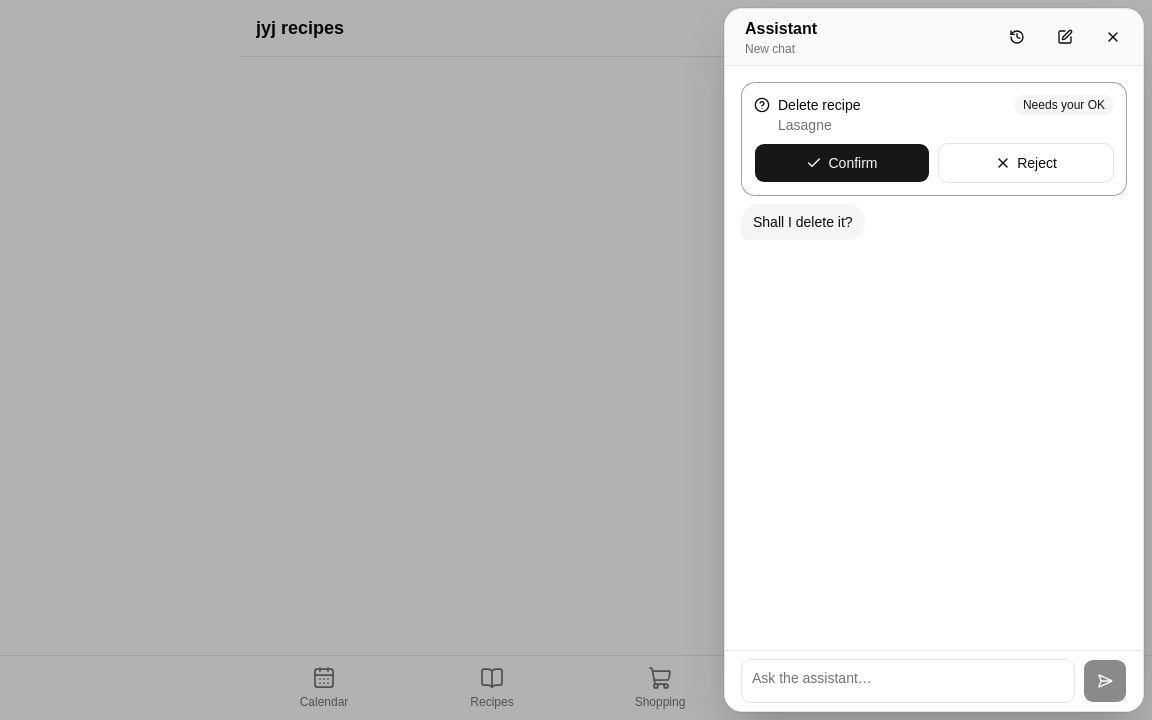
Test: chat › confirms a proposed action and updates the card
Expected: the text "Needs your OK" is shown, [1014,95,1114,115]
Click the button "Confirm": (842,163) [754,143,930,183]
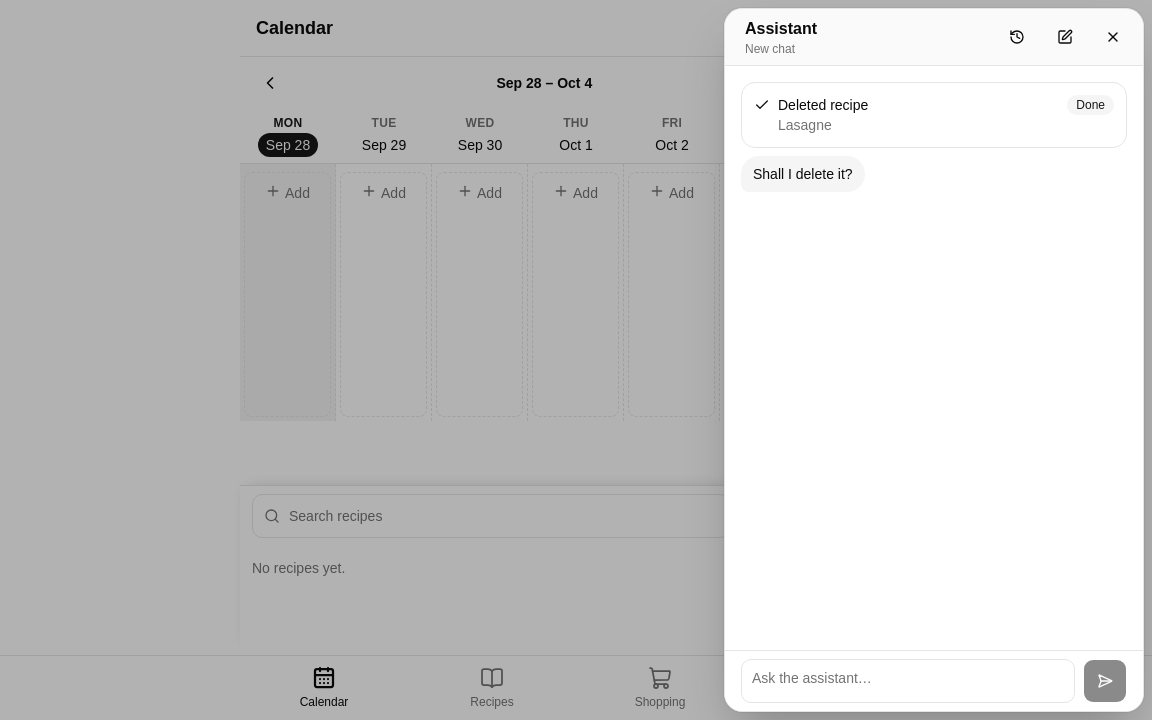
Expected: the icon "Done" is shown, [1067,95,1114,115]
Expected: the button "Confirm" is gone
